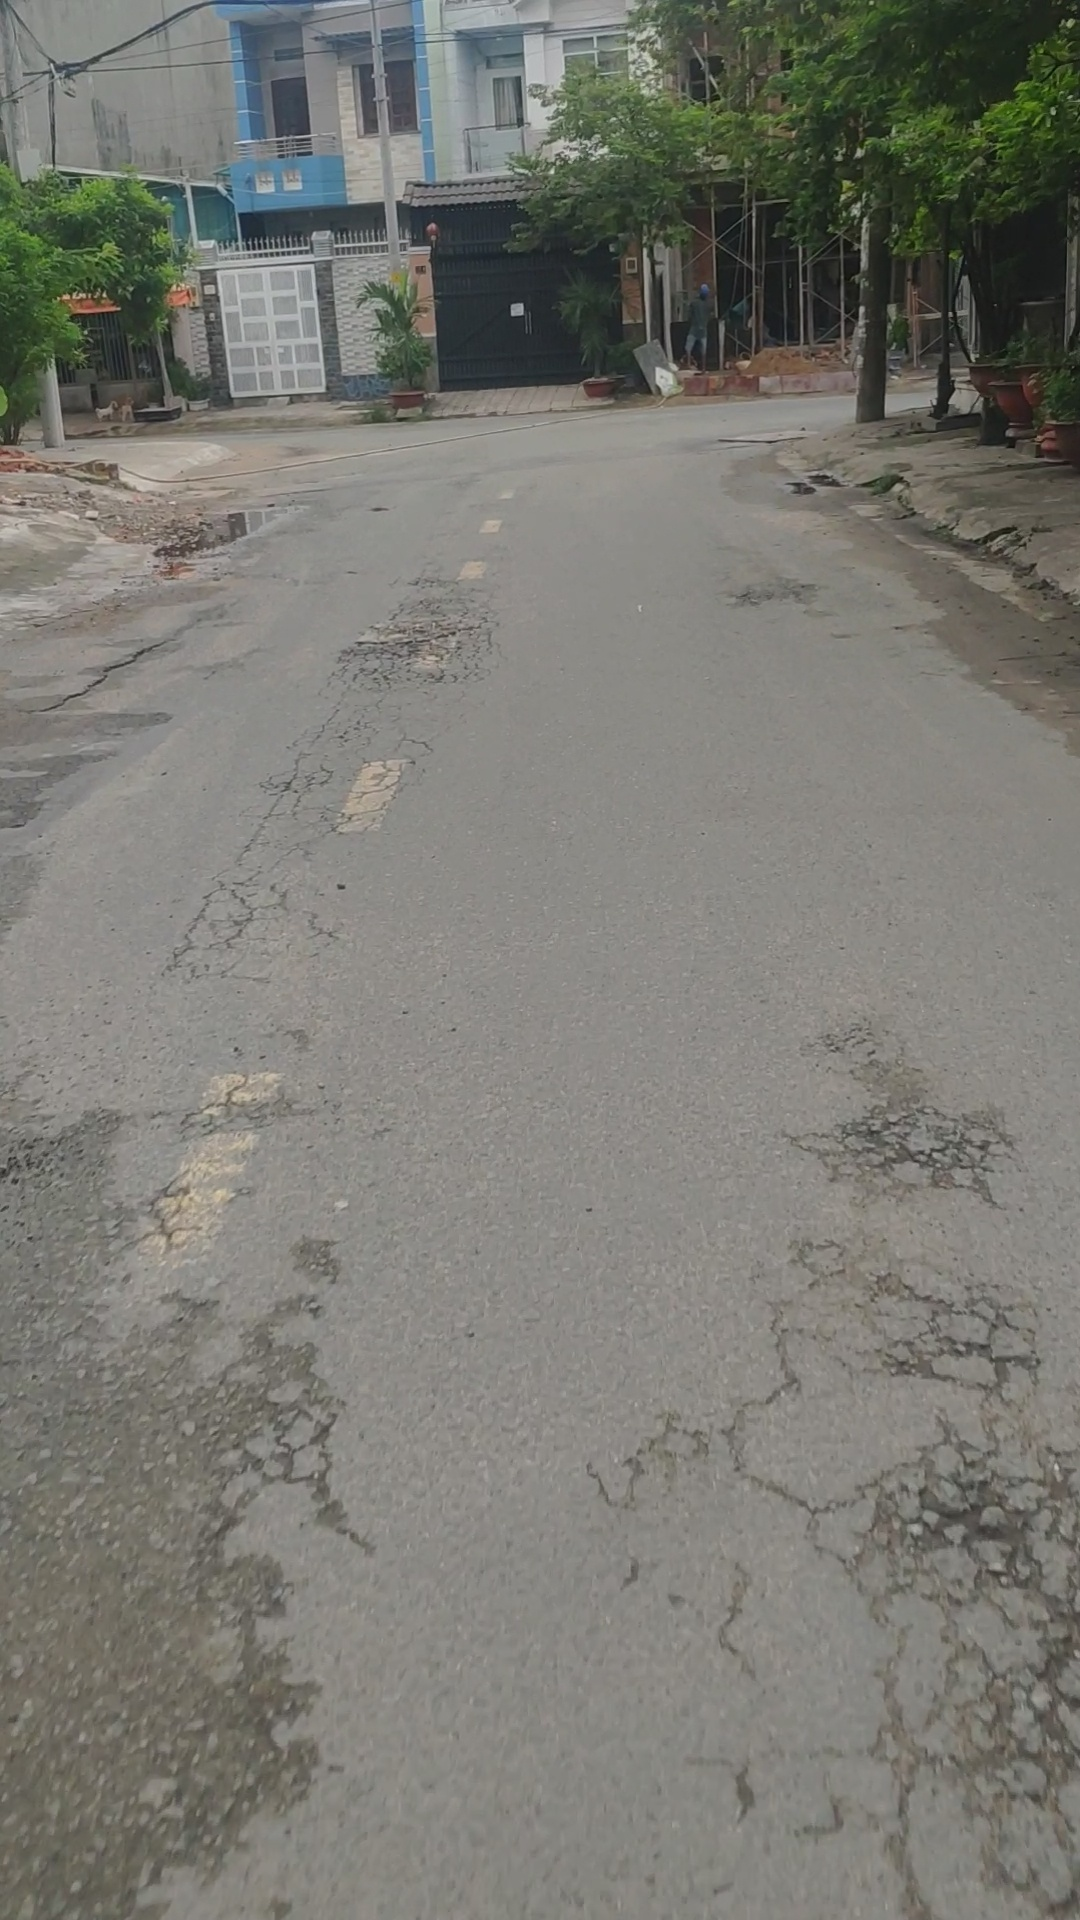hole: (831, 1443, 1080, 1785), (798, 1257, 1054, 1422), (789, 1033, 1022, 1201), (141, 498, 309, 568), (365, 593, 473, 694), (723, 574, 832, 616), (775, 477, 823, 498)
